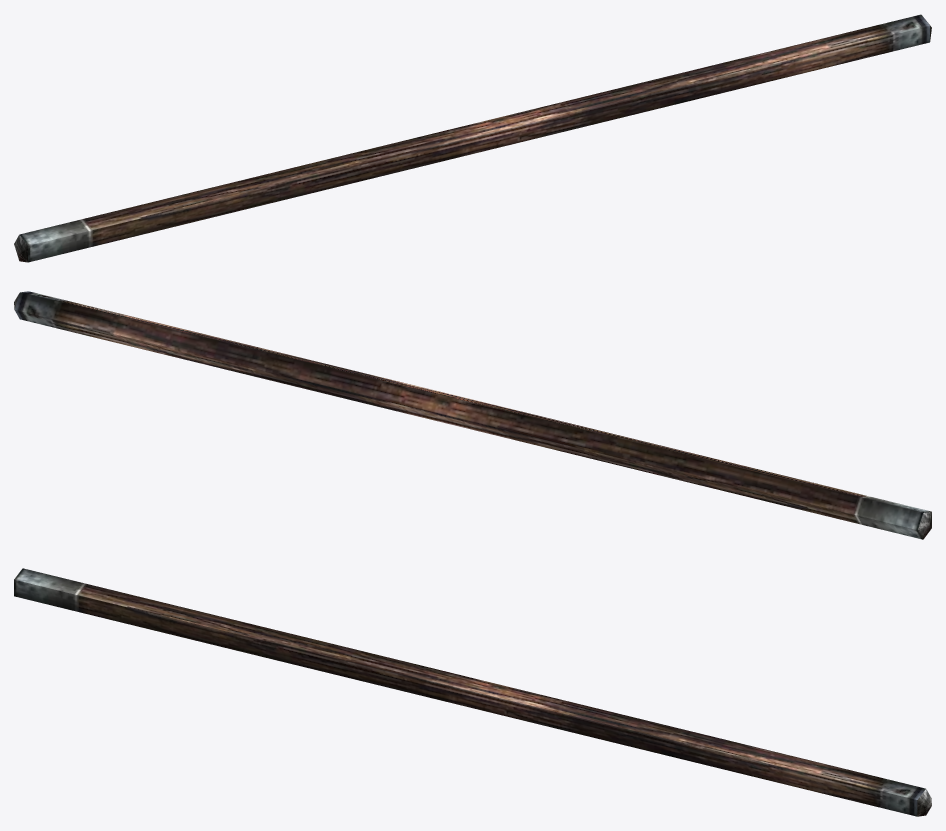
The model's file is ITMW_020_2H_NOV_STAFF_01.glb.
The picture shows the model from 3 angles, top to bottom: view 1: azimuth 30°, elevation 25°; view 2: azimuth 150°, elevation 25°; view 3: azimuth 330°, elevation 25°; orthographic projection.
Parts seen in each view (by area): view 1: ITMW_020_2H_NOV_STAFF_01; view 2: ITMW_020_2H_NOV_STAFF_01; view 3: ITMW_020_2H_NOV_STAFF_01.
Boxes of the visible parts, x1,y1,x2,y2 form: ITMW_020_2H_NOV_STAFF_01: [14, 14, 931, 262]; ITMW_020_2H_NOV_STAFF_01: [14, 291, 931, 539]; ITMW_020_2H_NOV_STAFF_01: [14, 568, 931, 816].
Size of the model in its own units: 1.57 by 0.0441 by 0.042.
1 material, 1 textured.
